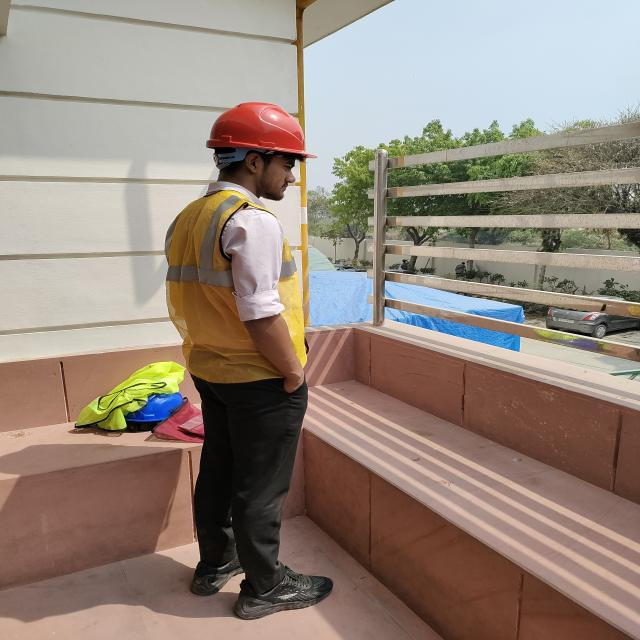safe: (164, 103, 318, 619)
